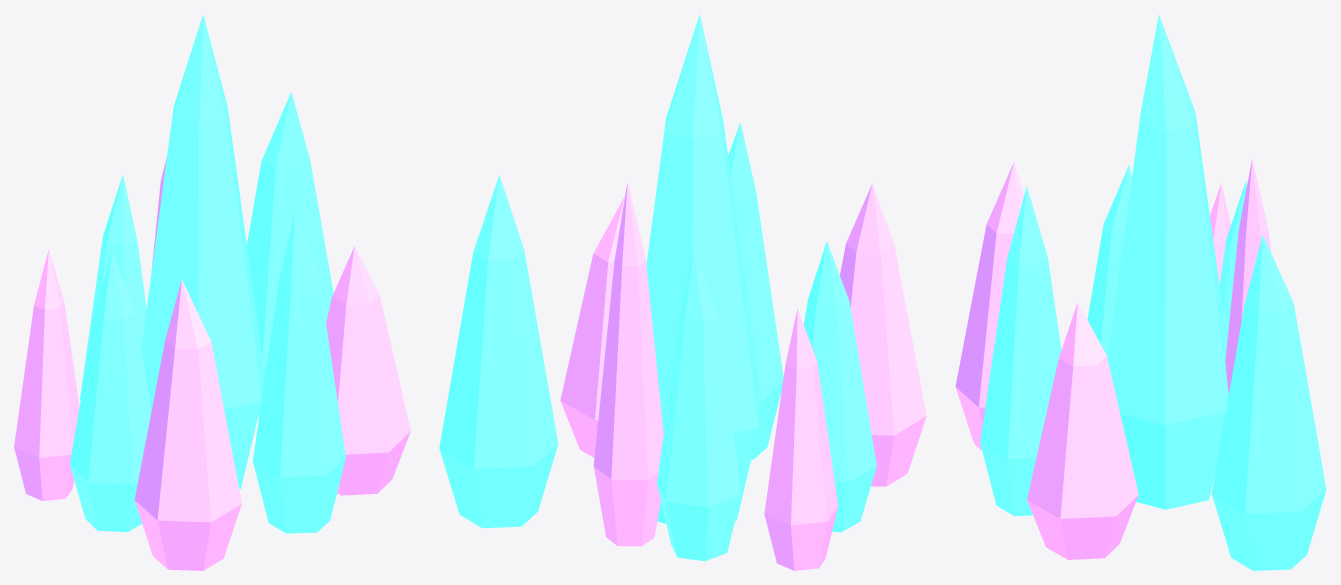
The model's file is sonnenhafen_biolum_cavern_crystals_high.glb.
3 views of the same model, side by side, from view 1: azimuth 30°, elevation 25°; view 2: azimuth 150°, elevation 25°; view 3: azimuth 270°, elevation 25° (orthographic). The views are drawn at different scales.
Visible parts, largest first — view 1: sonnenhafen_biolum_cavern_crystals; view 2: sonnenhafen_biolum_cavern_crystals; view 3: sonnenhafen_biolum_cavern_crystals.
Boxes of the visible parts, <box> form: sonnenhafen_biolum_cavern_crystals: <box>14,14,410,570</box>; sonnenhafen_biolum_cavern_crystals: <box>439,14,926,570</box>; sonnenhafen_biolum_cavern_crystals: <box>955,14,1326,570</box>.
Bounding box in the file's own units: 3.16 × 4.2 × 2.98.
